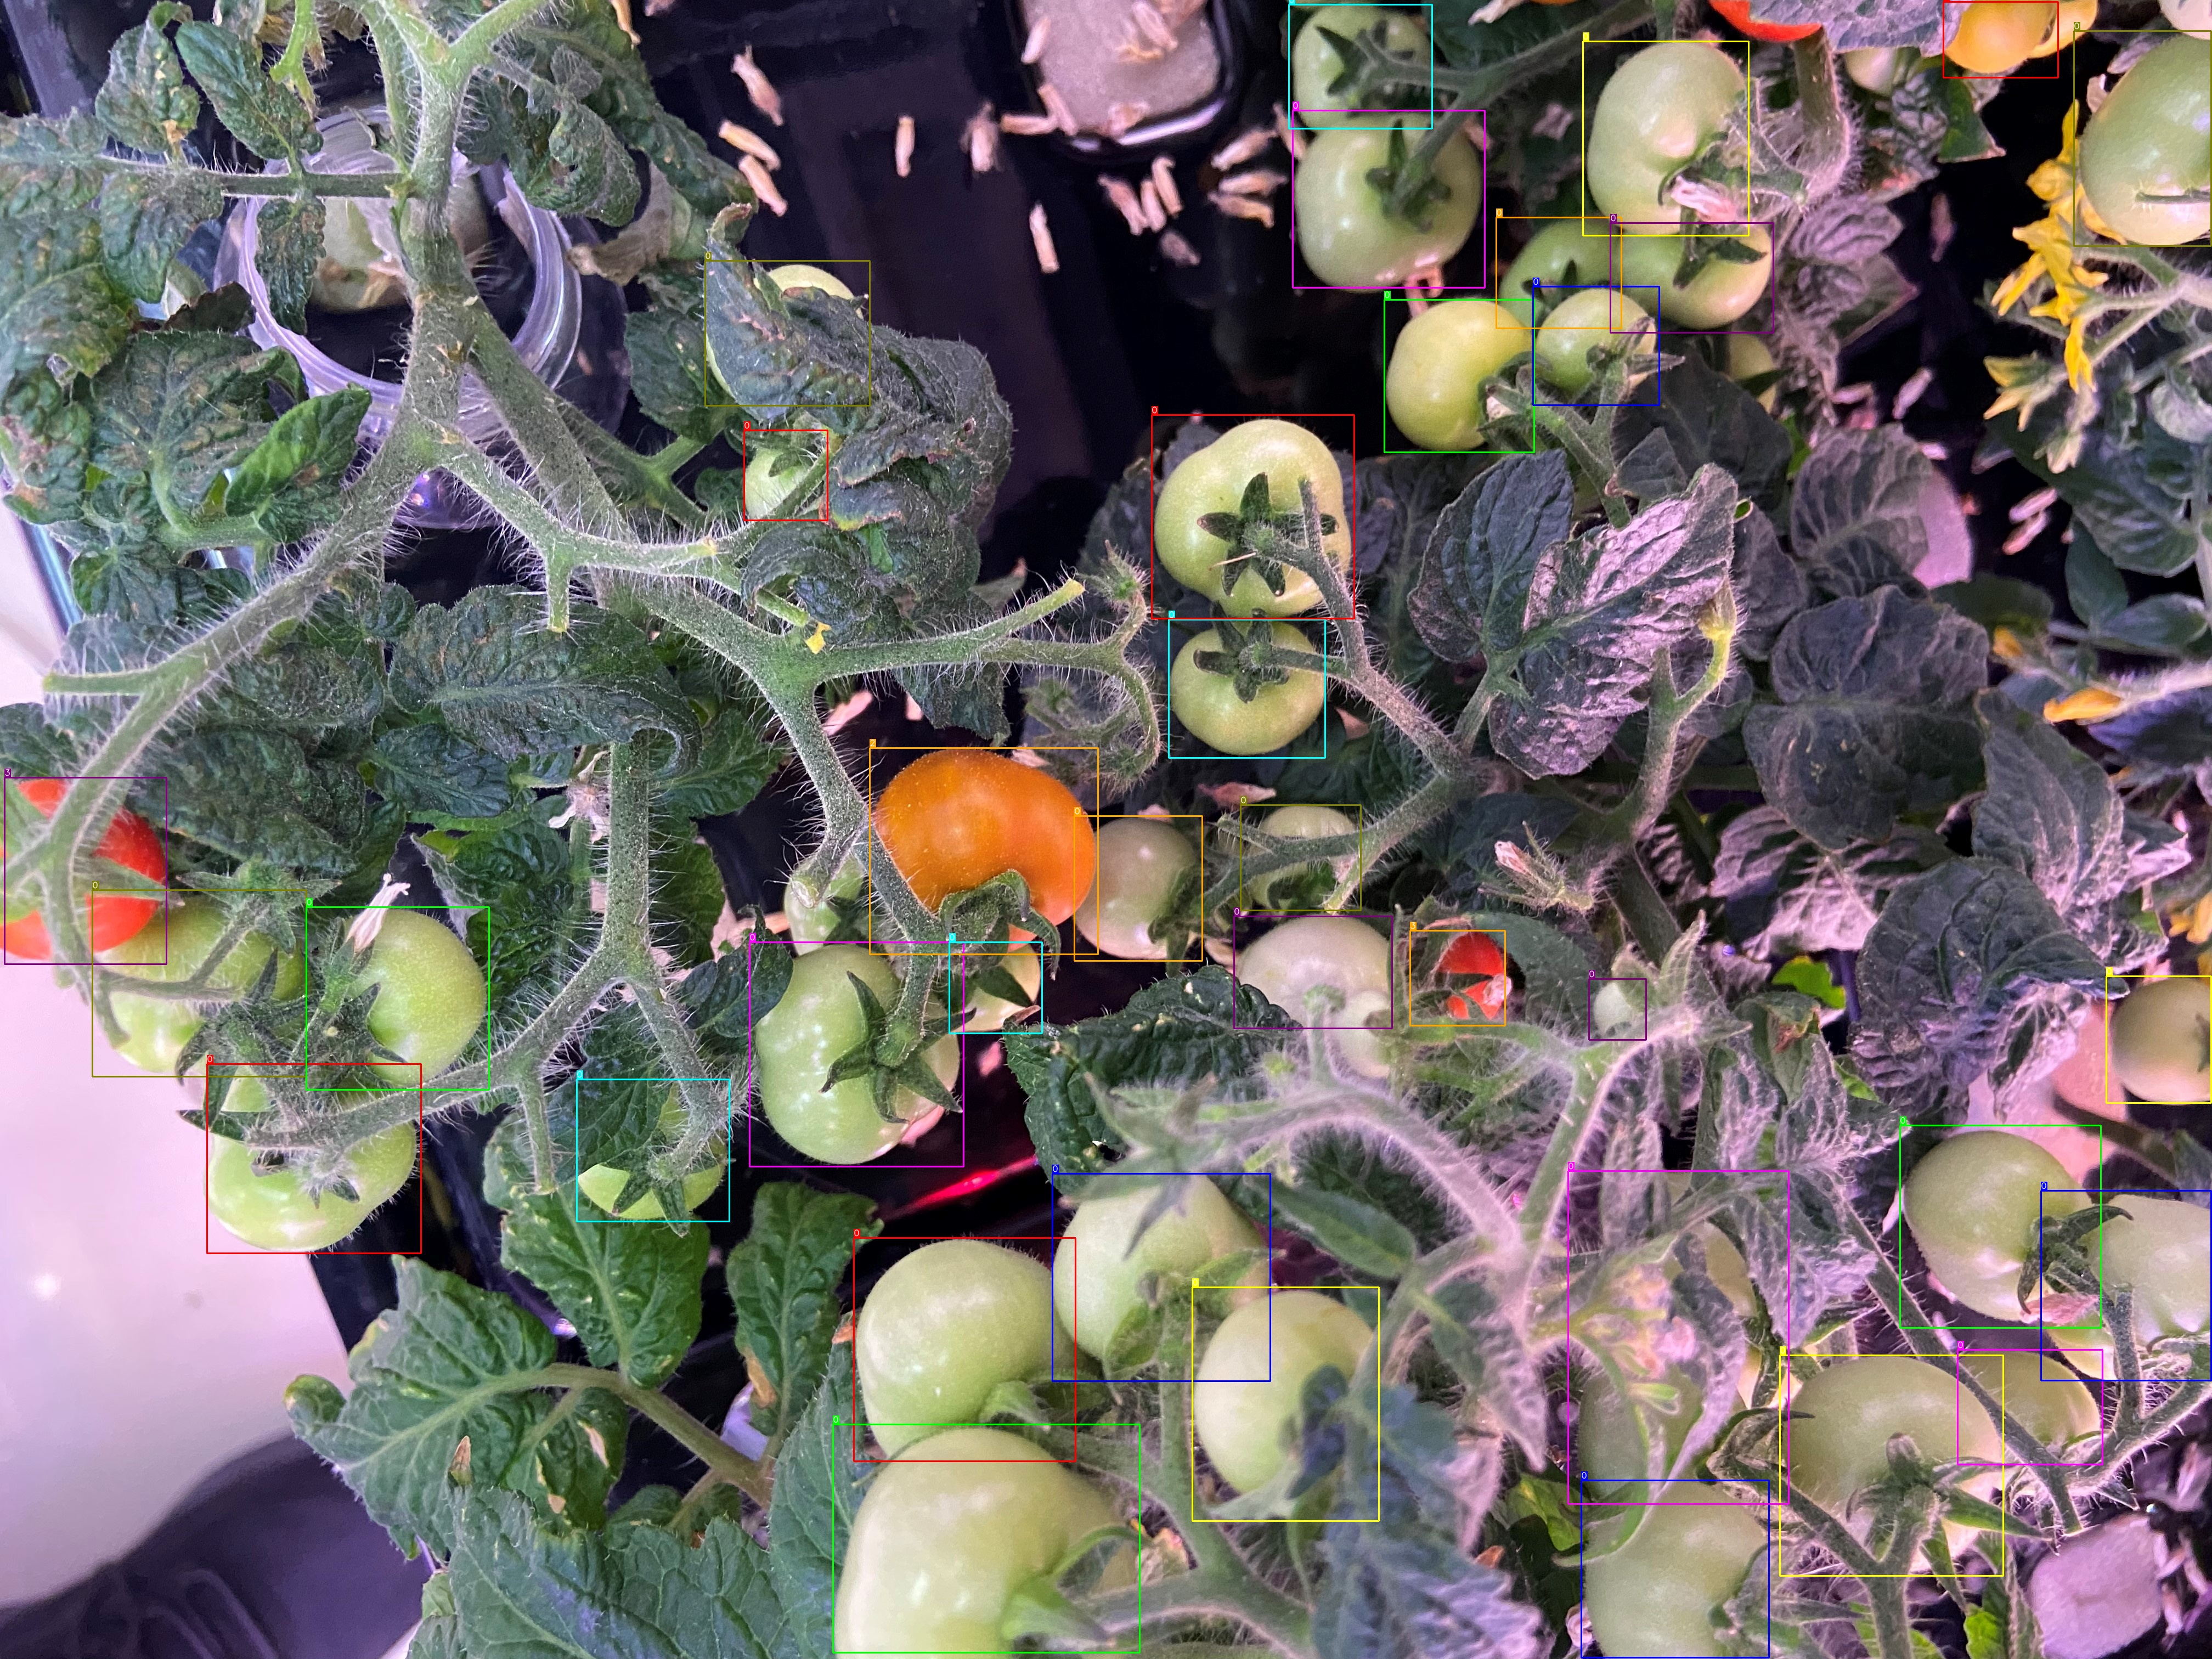MatureStage: (869, 748, 1097, 953)
RipeStage: (5, 777, 167, 964), (1409, 931, 1505, 1026)
TurningStage: (1944, 2, 2057, 77)
WhiteStage: (1568, 1171, 1789, 1504), (833, 1424, 1139, 1654), (853, 1237, 1076, 1460), (1780, 1356, 2003, 1575), (749, 943, 963, 1168), (1052, 1173, 1270, 1380), (1191, 1288, 1379, 1521), (1151, 415, 1353, 619), (207, 1063, 421, 1253), (1900, 1126, 2101, 1328), (92, 890, 307, 1077), (1292, 110, 1484, 288), (307, 906, 489, 1091), (1581, 1480, 1770, 1657), (2041, 1190, 2212, 1380), (1583, 42, 1749, 235), (2074, 31, 2212, 246), (705, 261, 869, 406), (1385, 300, 1534, 453), (577, 1079, 730, 1222), (1169, 619, 1325, 758), (1075, 816, 1202, 960), (1609, 223, 1773, 333), (1233, 917, 1392, 1028), (1289, 5, 1432, 129), (1958, 1349, 2102, 1466), (1533, 286, 1660, 406), (1496, 218, 1622, 328), (2106, 976, 2212, 1103), (1240, 805, 1360, 911), (949, 943, 1042, 1033), (744, 430, 827, 519), (1588, 979, 1646, 1040)
